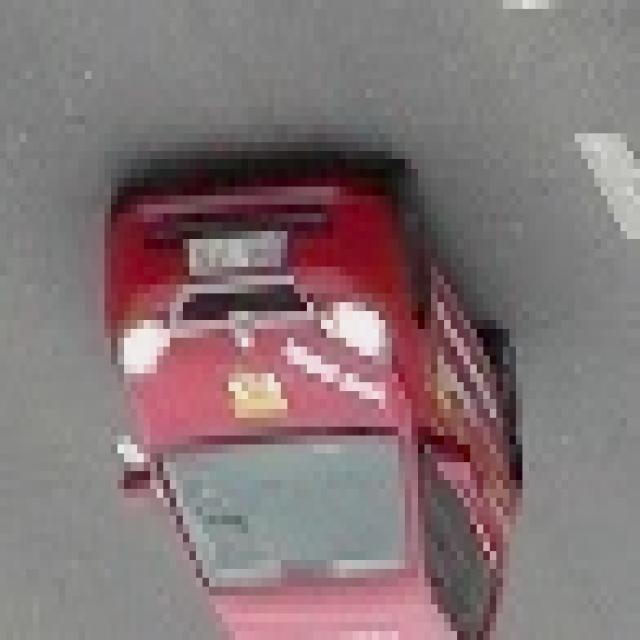red: (111, 169, 509, 640)
